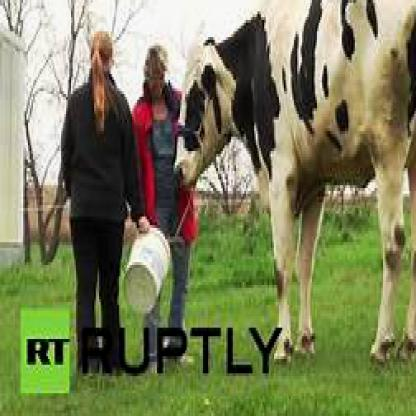cow: (172, 0, 414, 365)
